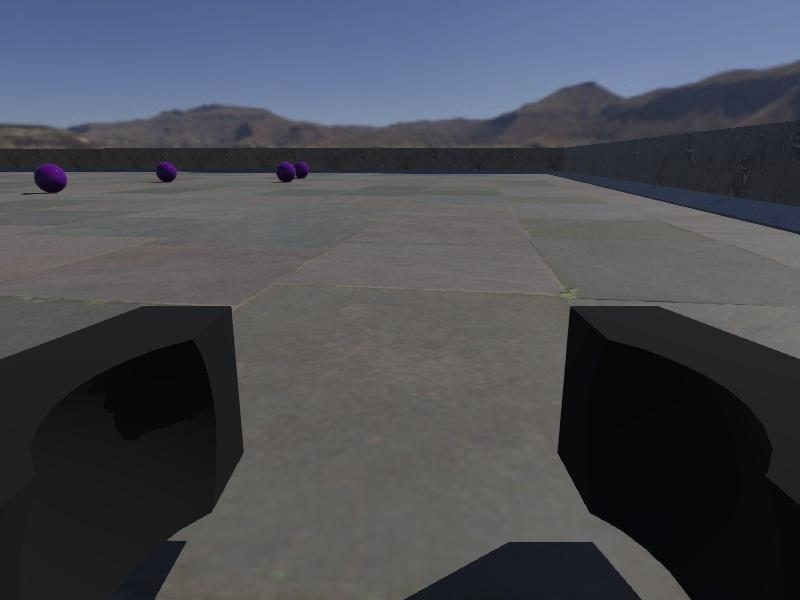violet ball: (35, 163, 68, 194), (275, 161, 297, 183), (155, 162, 178, 183)
